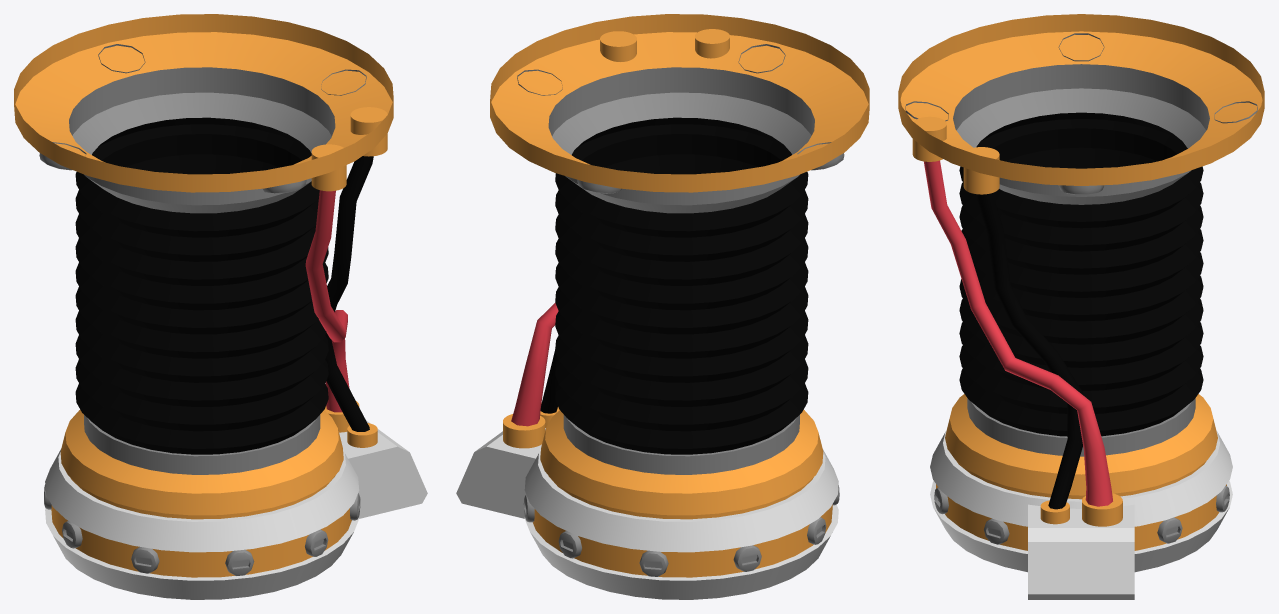
File: Chute.fbx
3 views of the same model, side by side, from view 1: azimuth 30°, elevation 25°; view 2: azimuth 150°, elevation 25°; view 3: azimuth 270°, elevation 25° (orthographic). The views are drawn at different scales.
Parts seen in each view (by area): view 1: Chute; view 2: Chute; view 3: Chute.
Boxes of the visible parts, <box> form: Chute: <box>14,14,427,599</box>; Chute: <box>456,14,869,599</box>; Chute: <box>898,14,1264,599</box>.
Size of the model in its own units: 2.48 by 2.95 by 2.26.
